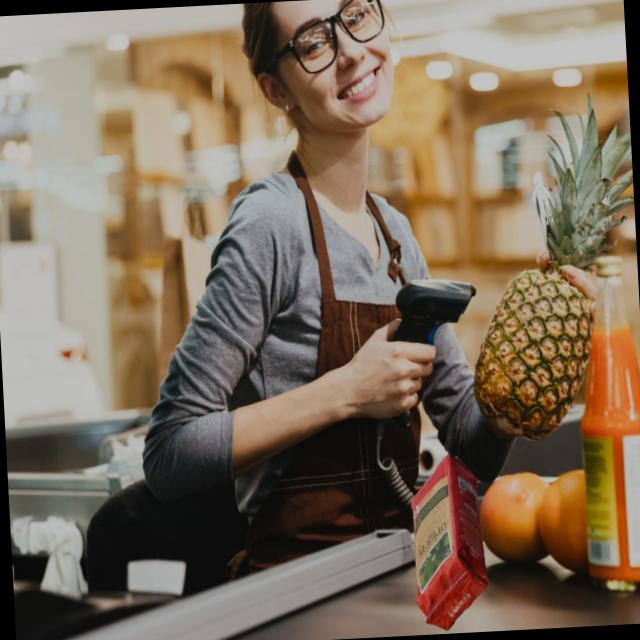mate bag: (408, 448, 488, 635)
